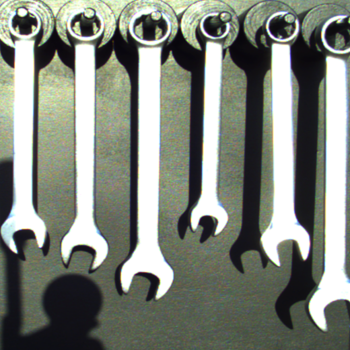bottom: (115, 246, 177, 301), (255, 214, 312, 267), (302, 272, 350, 334), (57, 228, 111, 274), (2, 213, 50, 257), (187, 198, 231, 237)
top: (125, 6, 172, 47), (65, 7, 107, 45), (315, 12, 350, 57), (262, 9, 304, 46), (6, 7, 43, 41), (196, 10, 232, 44)
